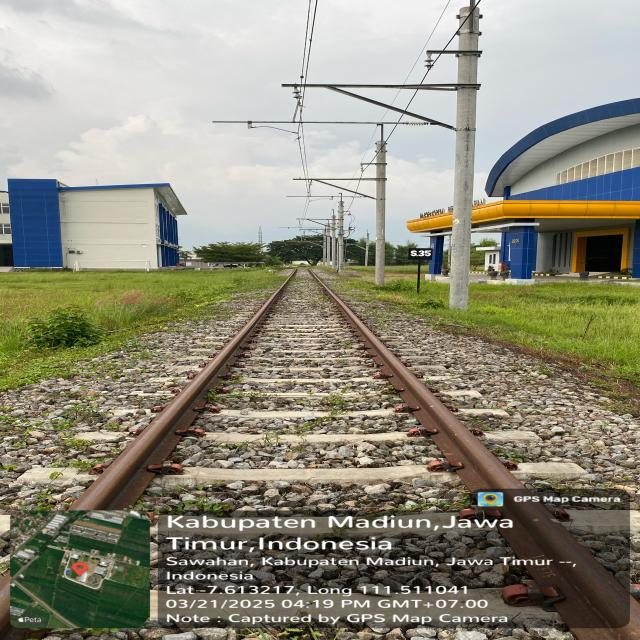rail-detection: (70, 281, 288, 510), (310, 271, 523, 498), (503, 501, 634, 637)
